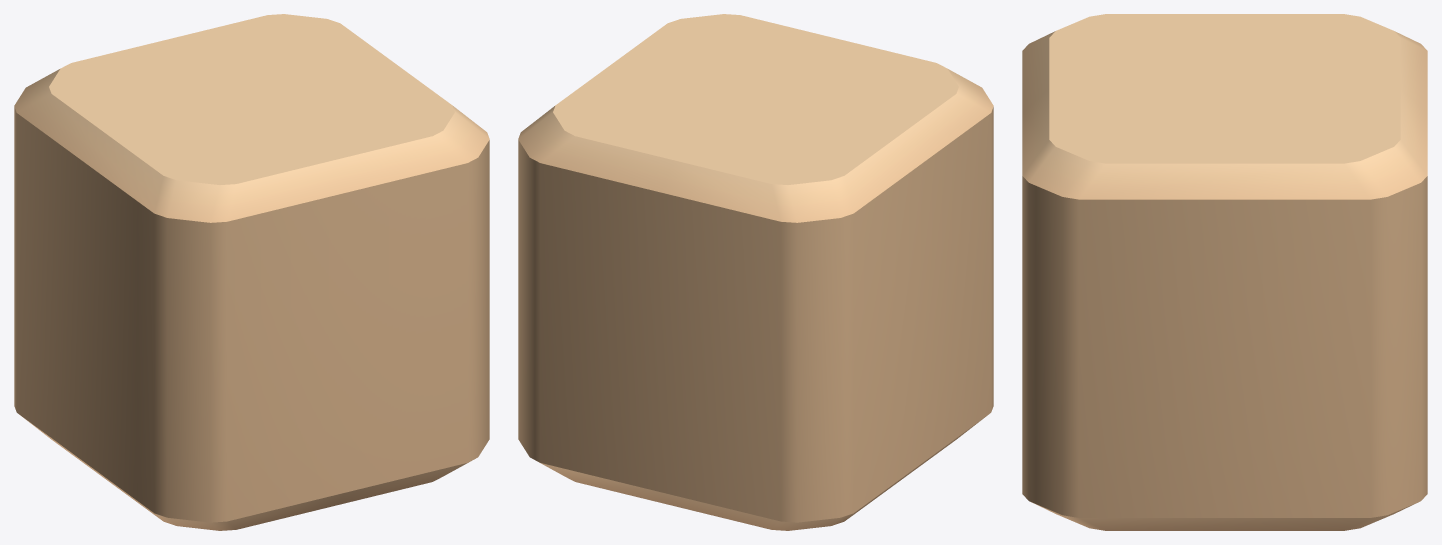
Rendered from Stone_Block_1x1.fbx.
3 views of the same model, side by side, from view 1: azimuth 30°, elevation 25°; view 2: azimuth 150°, elevation 25°; view 3: azimuth 270°, elevation 25° (orthographic). The views are drawn at different scales.
Parts seen in each view (by area): view 1: Stone Block 1x1; view 2: Stone Block 1x1; view 3: Stone Block 1x1.
Boxes of the visible parts, left/top/right/bottom form: Stone Block 1x1: left=14, top=14, right=489, bottom=530; Stone Block 1x1: left=518, top=14, right=993, bottom=530; Stone Block 1x1: left=1022, top=14, right=1427, bottom=530.
Bounding box in the file's own units: 99.3 × 98.56 × 98.56.
